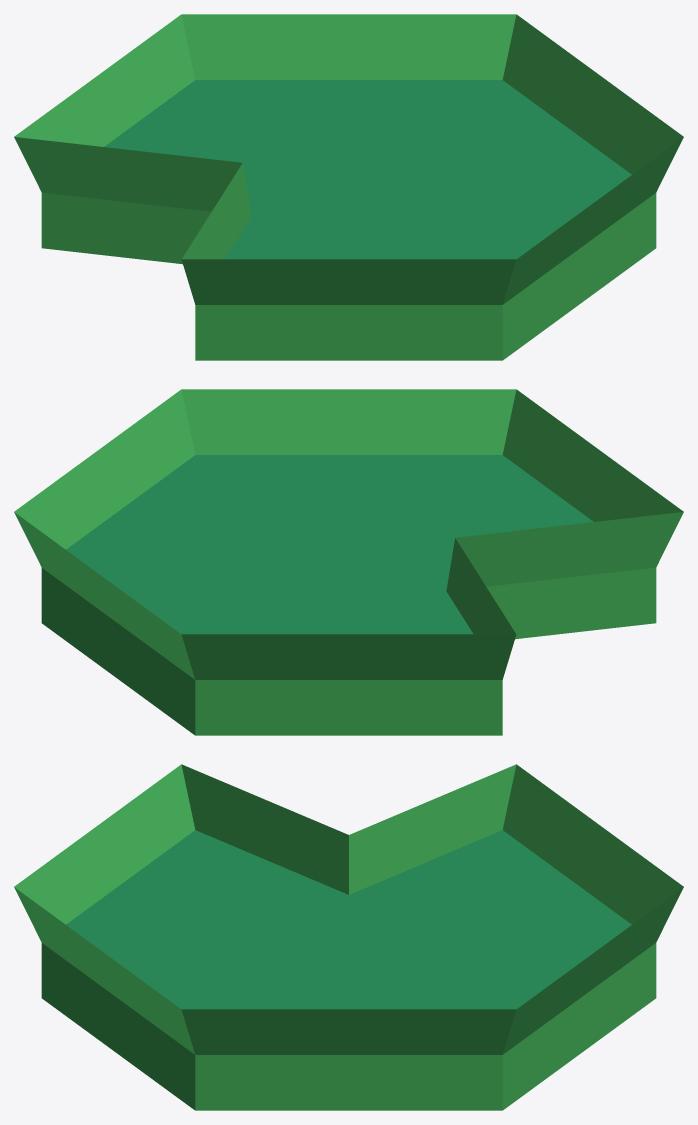
The model's file is lily-pad.glb.
3 views of the same model, one above another, from view 1: azimuth 30°, elevation 25°; view 2: azimuth 150°, elevation 25°; view 3: azimuth 270°, elevation 25° (orthographic).
Parts seen in each view (by area): view 1: lily_small; view 2: lily_small; view 3: lily_small.
Boxes of the visible parts, x1,y1,x2,y2 form: lily_small: (14, 14, 683, 360); lily_small: (14, 389, 683, 735); lily_small: (14, 764, 683, 1110).
Bounding box in the file's own units: 0.7552 × 0.16 × 0.872.
